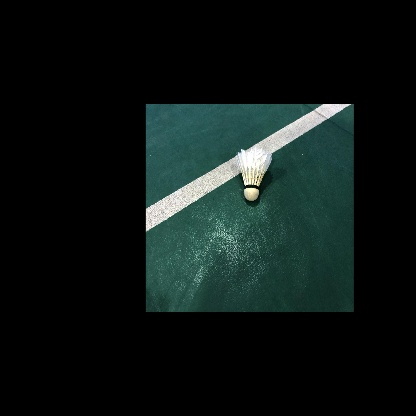ball_single: (236, 147, 272, 201)
